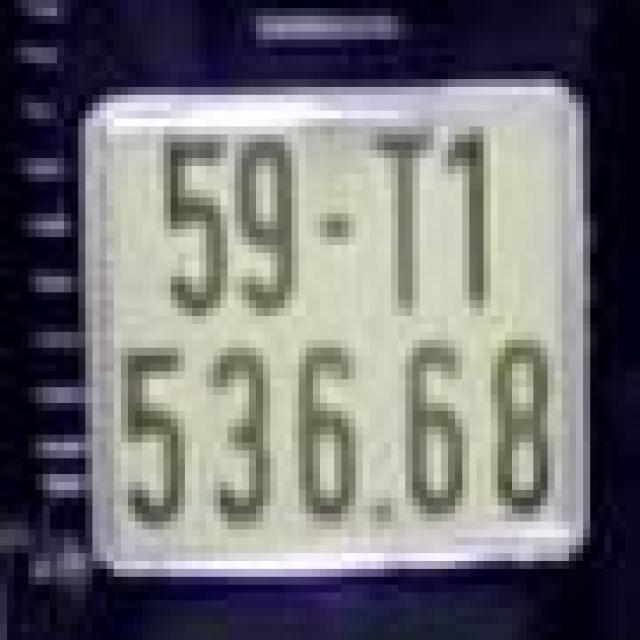1: (438, 107, 502, 312)
3: (203, 332, 281, 537)
5: (139, 118, 231, 324), (110, 336, 188, 541)
6: (288, 328, 366, 541), (395, 328, 473, 525)
8: (491, 328, 562, 525)
9: (231, 118, 302, 324)
T: (356, 103, 434, 316)
